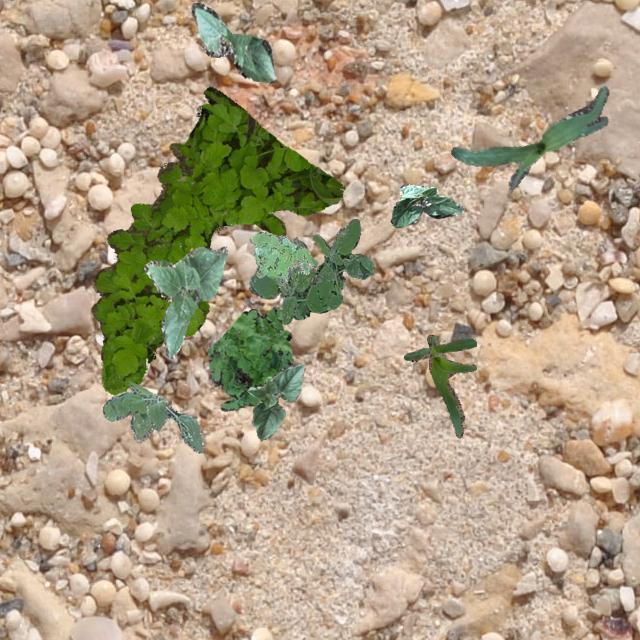crop: (450, 86, 608, 190), (144, 245, 226, 358), (402, 334, 476, 436), (190, 2, 276, 82), (246, 362, 304, 440), (390, 182, 462, 226)
weed: (90, 85, 344, 394), (248, 218, 372, 324), (206, 306, 292, 410), (101, 381, 202, 452), (248, 230, 316, 284)
